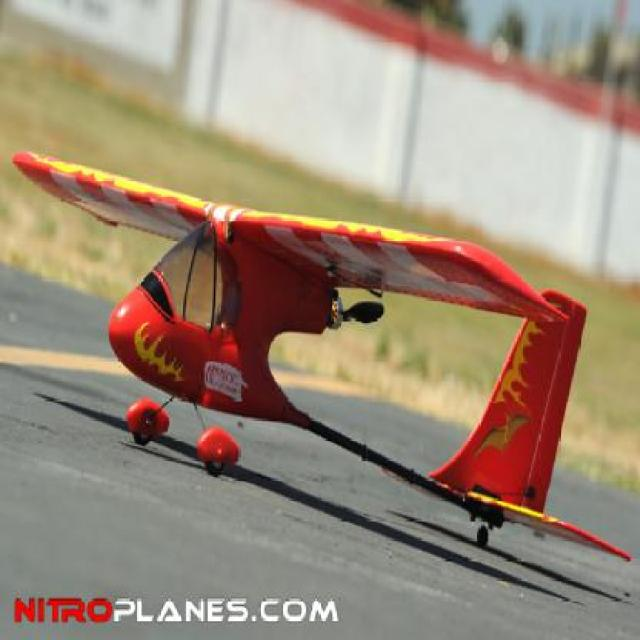iha: (13, 146, 635, 569)
